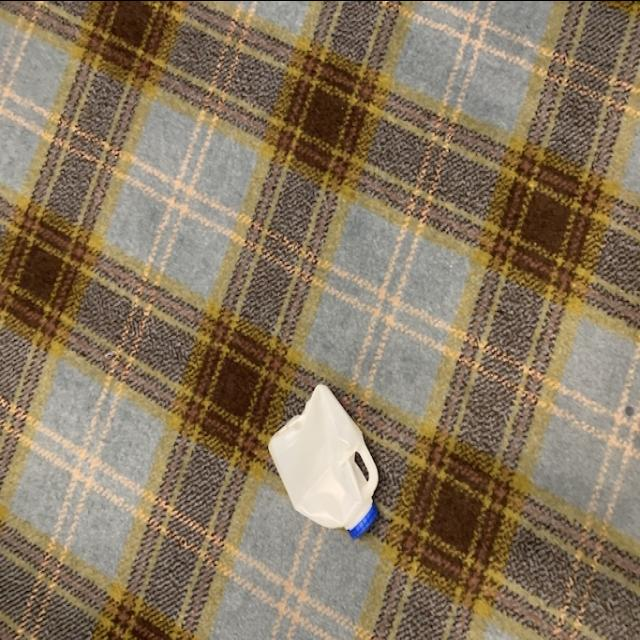HDPEM: (264, 375, 390, 541)
